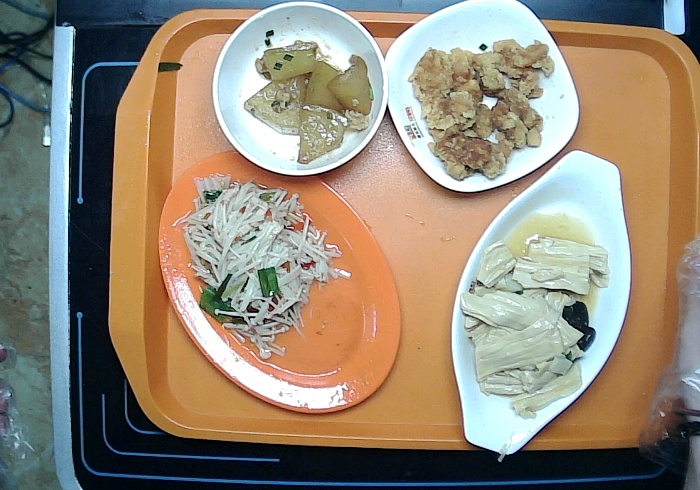NLDX-Bai_Se_Xiao_Fang_Die: (382, 1, 581, 191)
NLDX-Fan_Wan: (213, 4, 388, 175)
NLDX-Ju_Se_Pan: (157, 148, 402, 414)
NLDX-Yu_Pan: (450, 148, 632, 454)
